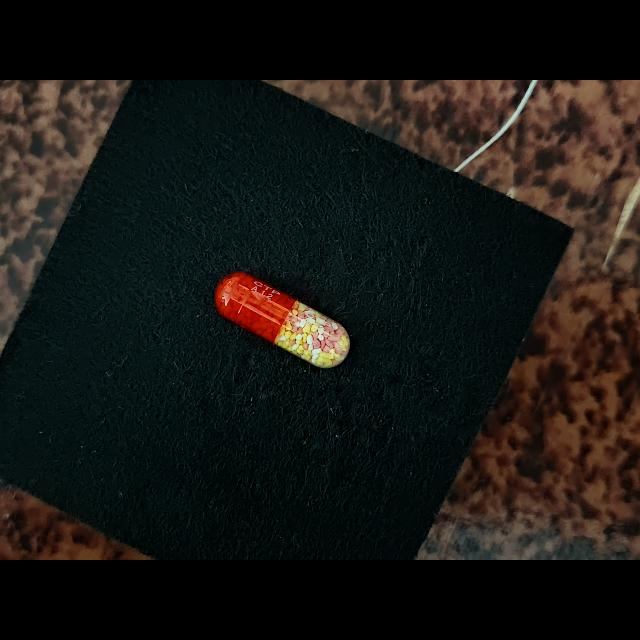Intact Capsule: (214, 272, 350, 369)
